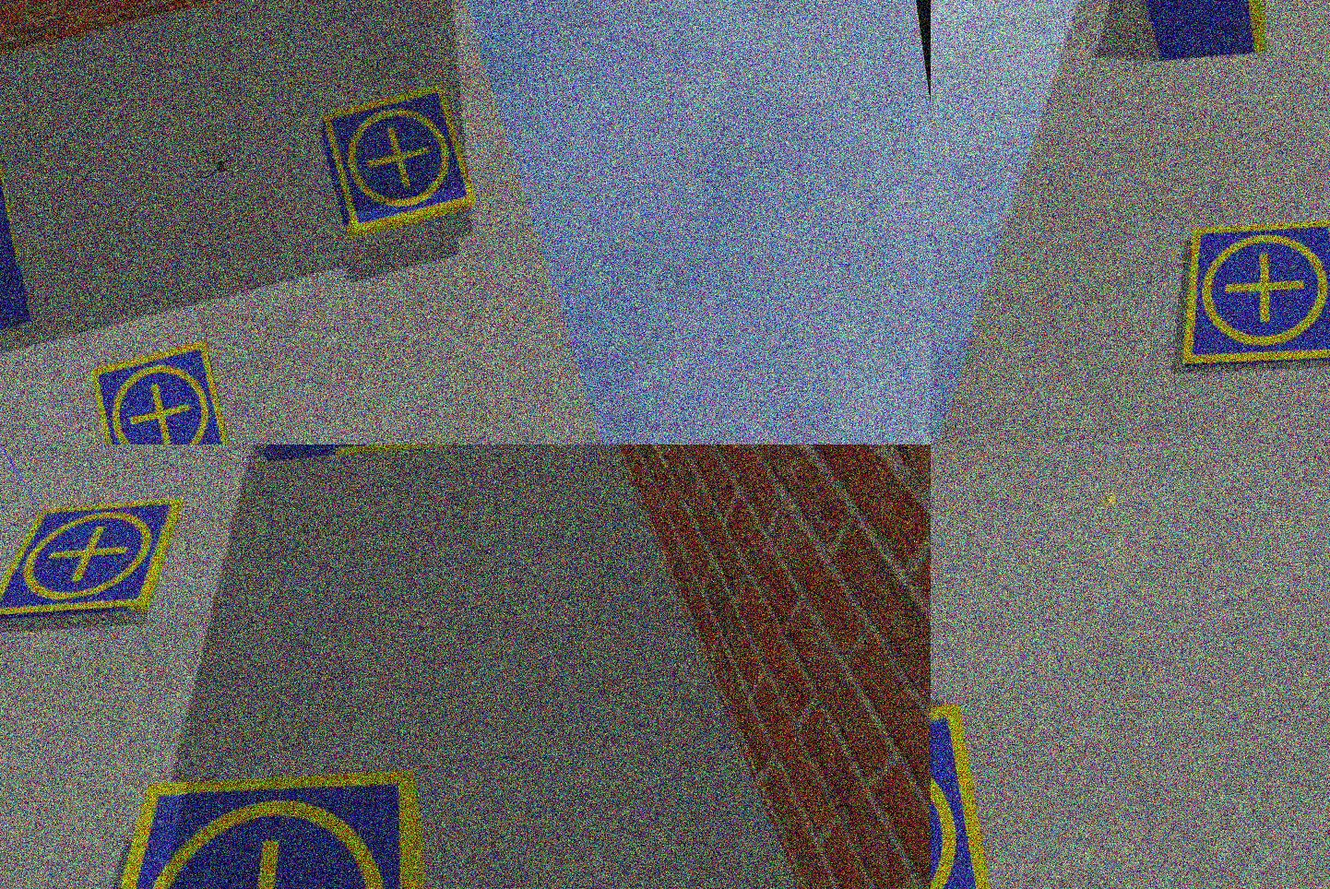small_base: (51, 743, 448, 889), (1, 482, 194, 634), (1161, 210, 1330, 380), (318, 82, 478, 236), (88, 338, 236, 445)
